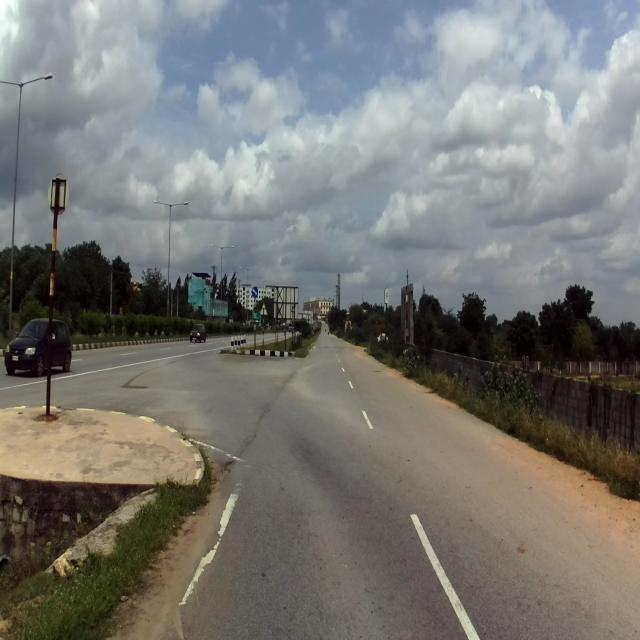car: (4, 316, 71, 377), (189, 323, 206, 343)
